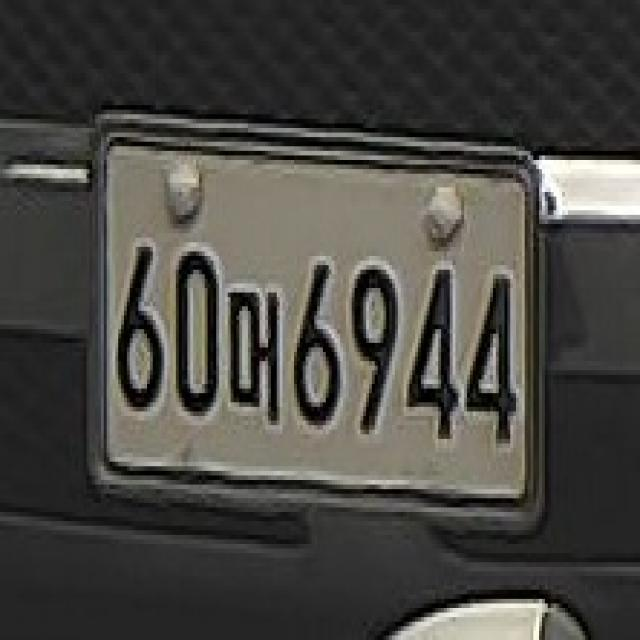0: (172, 238, 226, 421)
4: (462, 264, 522, 450), (405, 261, 461, 448)
6: (293, 232, 348, 440), (108, 234, 168, 414)
9: (352, 252, 402, 443)
license_plate: (75, 99, 552, 550)
meo: (226, 274, 288, 432)
